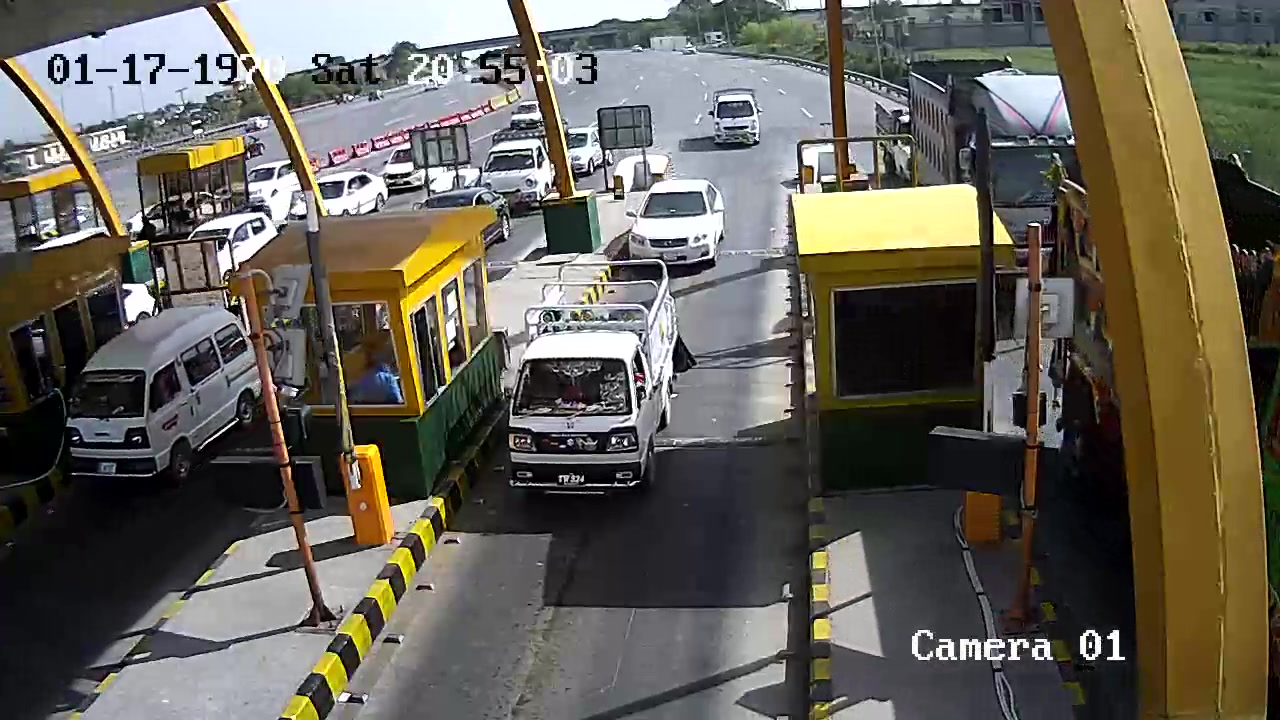F1: (502, 253, 680, 506)
